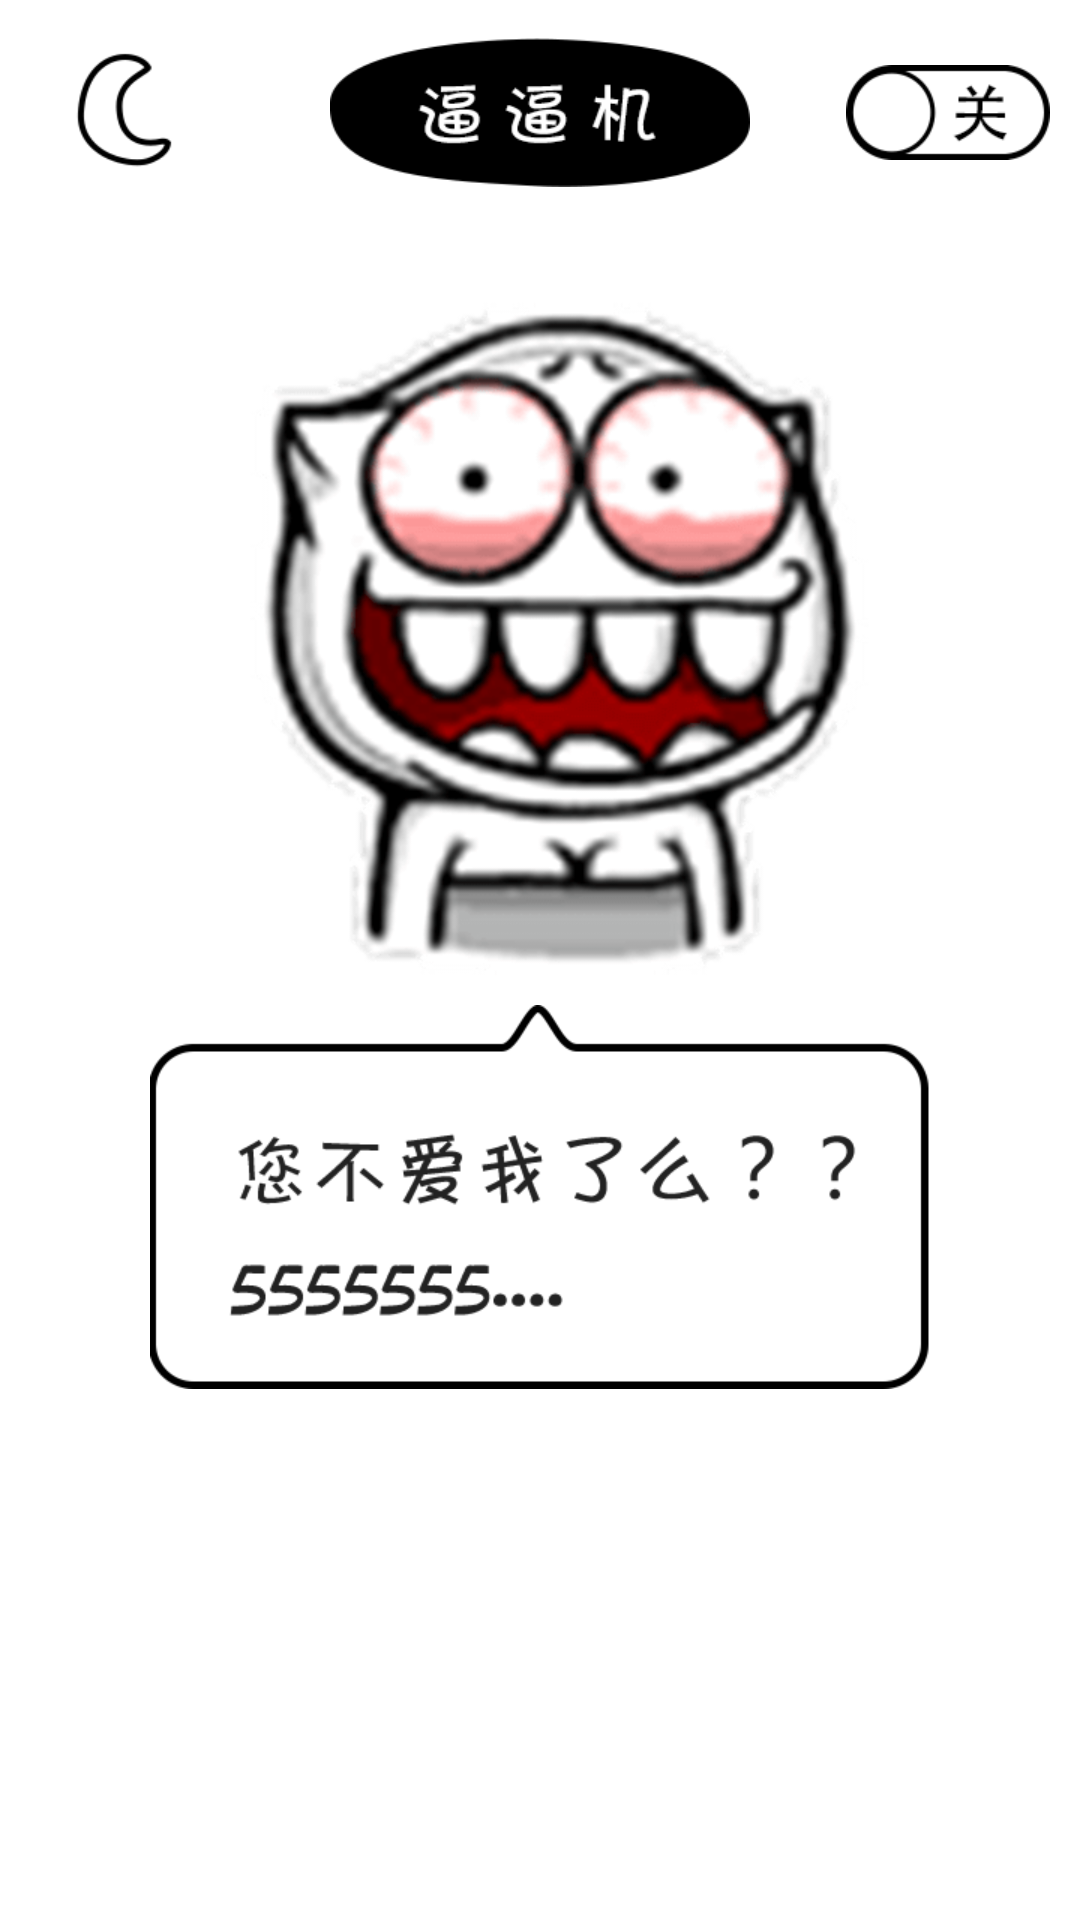

Locate icon controls on the screen. Image size 1080 x 1920, boxes as bbox(x1, y1, x2, y2).
夜间模式: bbox(77, 53, 172, 167)
总开关: bbox(846, 65, 1050, 160)
